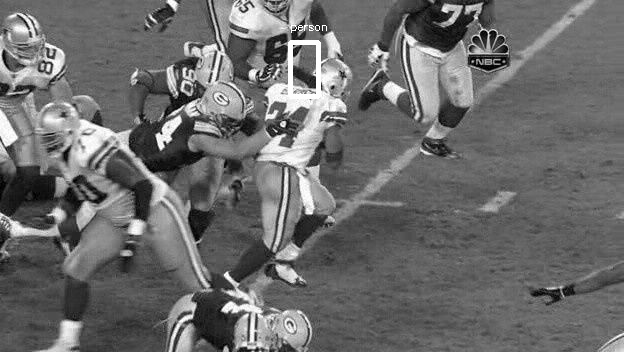person: (316, 58, 351, 103), (315, 58, 350, 103), (317, 58, 352, 103), (316, 57, 351, 102), (316, 59, 351, 104)
target_negative: (145, 6, 346, 300), (66, 21, 234, 330), (102, 280, 536, 311), (588, 61, 613, 313), (38, 290, 147, 311), (556, 276, 592, 326)
